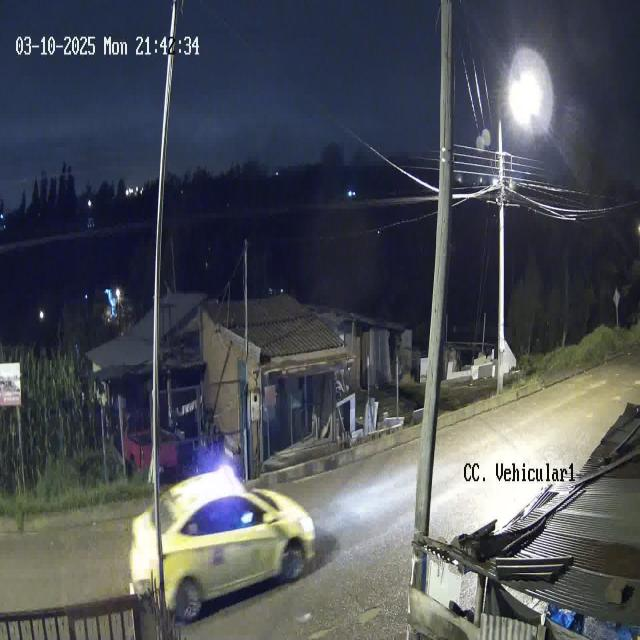SED: (128, 465, 316, 622)
